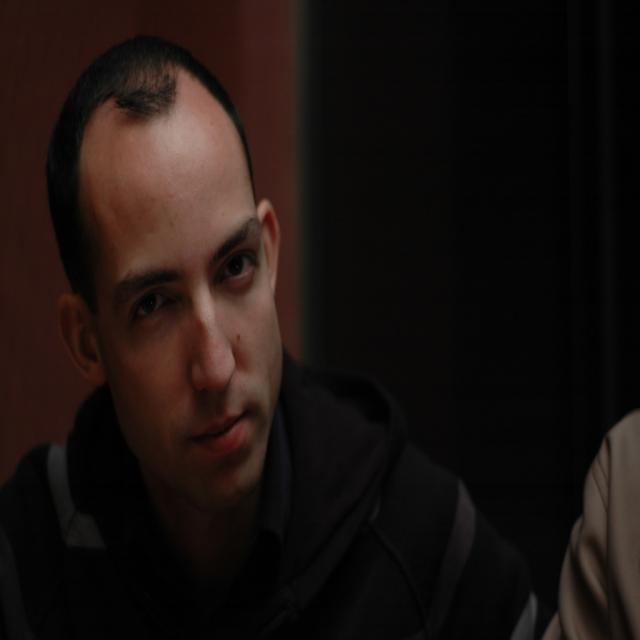closed-mouth: (189, 413, 248, 455)
